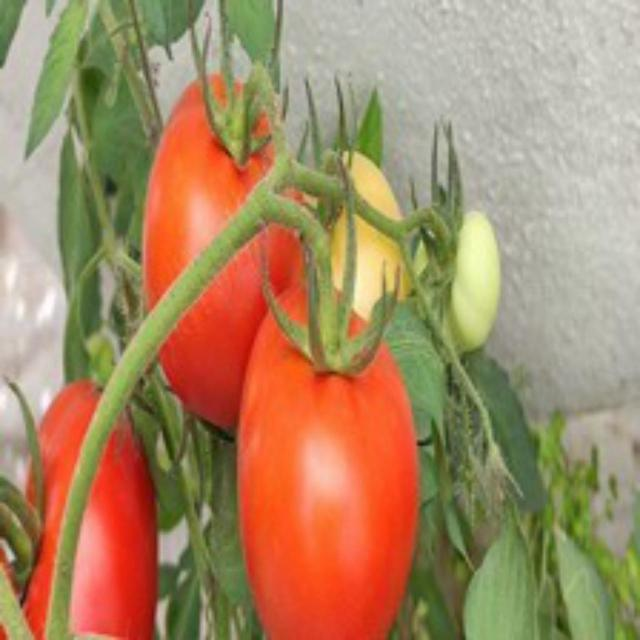tomato: (228, 283, 442, 637)
